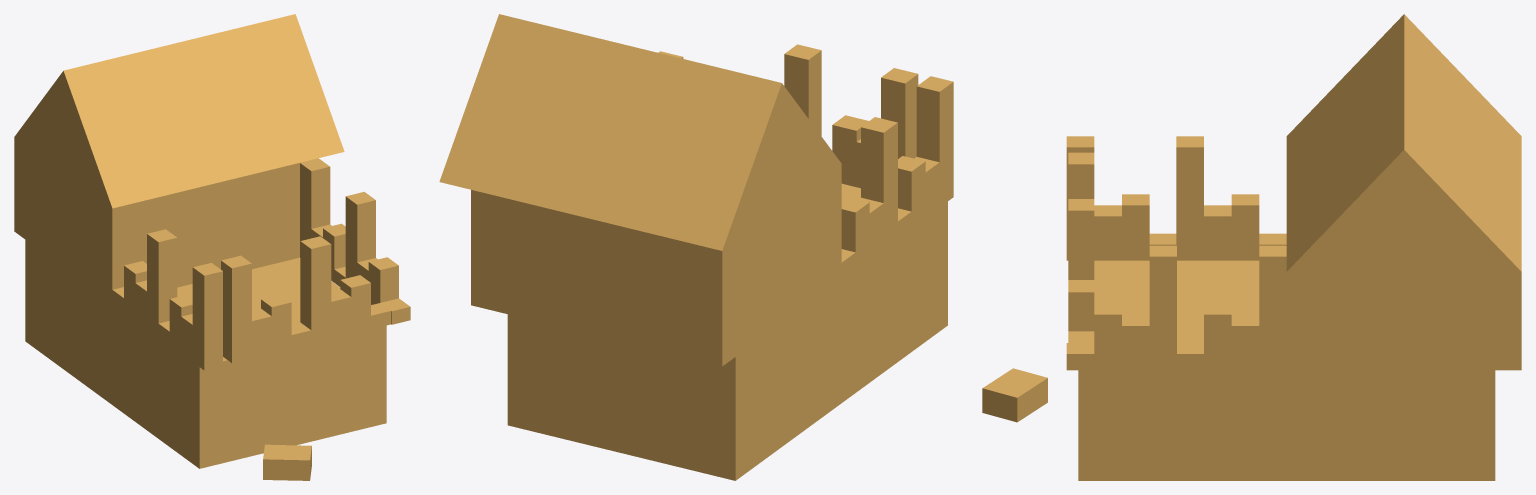
Rendered from thievesGuild01.glb.
3 renders of one model, left to right at view 1: azimuth 30°, elevation 25°; view 2: azimuth 150°, elevation 25°; view 3: azimuth 270°, elevation 25°, orthographic. The views are drawn at different scales.
Visible parts, largest first — view 1: ThievesGuild01; view 2: ThievesGuild01; view 3: ThievesGuild01.
Part boxes in pixels (x1,y1,x2,y2): ThievesGuild01: (14, 14, 410, 480); ThievesGuild01: (439, 14, 953, 480); ThievesGuild01: (982, 14, 1521, 480).
Bounding box in the file's own units: 1.54 × 1.89 × 2.58.
